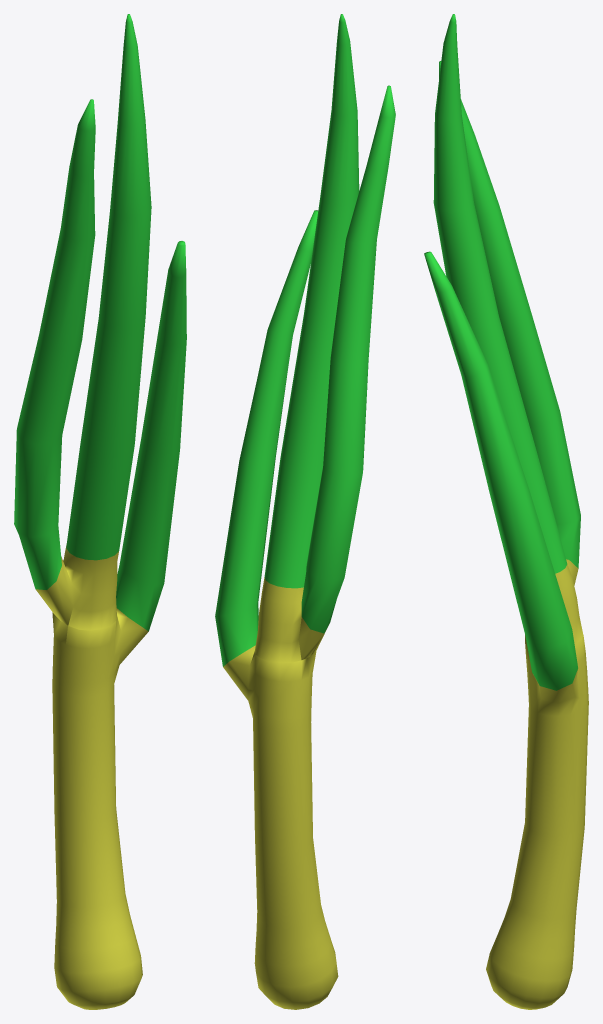
File: Green Onion.fbx
3 views of the same model, side by side, from view 1: azimuth 30°, elevation 25°; view 2: azimuth 150°, elevation 25°; view 3: azimuth 270°, elevation 25° (orthographic). The views are drawn at different scales.
Parts seen in each view (by area): view 1: spring_onion; view 2: spring_onion; view 3: spring_onion.
Part boxes in pixels (x1=…): spring_onion: x1=14, y1=14, x2=186, y2=1009; spring_onion: x1=215, y1=14, x2=395, y2=1009; spring_onion: x1=424, y1=14, x2=588, y2=1009.
Size of the model in its own units: 10.89 by 10.96 by 72.3.
